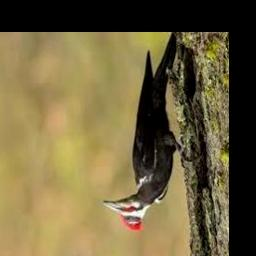Woodpecker: (104, 33, 195, 231)
